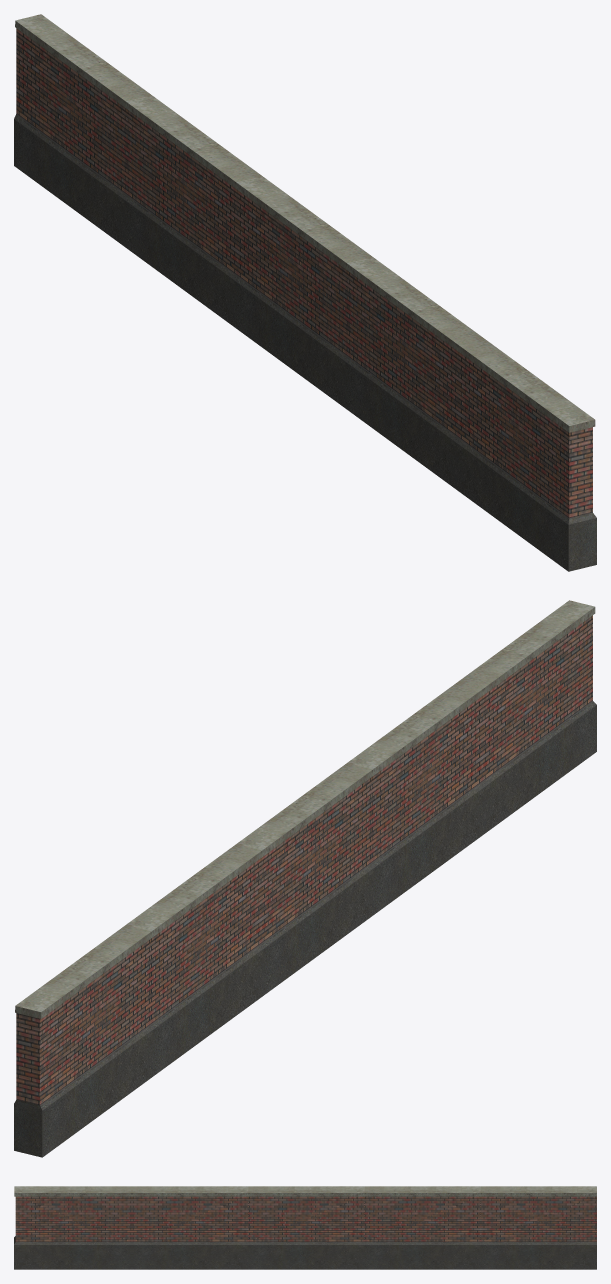
Rendered from MiniBR_Wall001.fbx.
3 renders of one model, top to bottom at view 1: azimuth 30°, elevation 25°; view 2: azimuth 150°, elevation 25°; view 3: azimuth 270°, elevation 25°, orthographic. The views are drawn at different scales.
Visible parts, largest first — view 1: MiniBR_Wall001; view 2: MiniBR_Wall001; view 3: MiniBR_Wall001.
Boxes of the visible parts, x1=… form: MiniBR_Wall001: x1=14, y1=14, x2=596, y2=571; MiniBR_Wall001: x1=14, y1=600, x2=596, y2=1157; MiniBR_Wall001: x1=14, y1=1186, x2=596, y2=1269.
Bounding box in the file's own units: 29.67 × 1003 × 145.
Materials: 1 (1 with a texture image).
